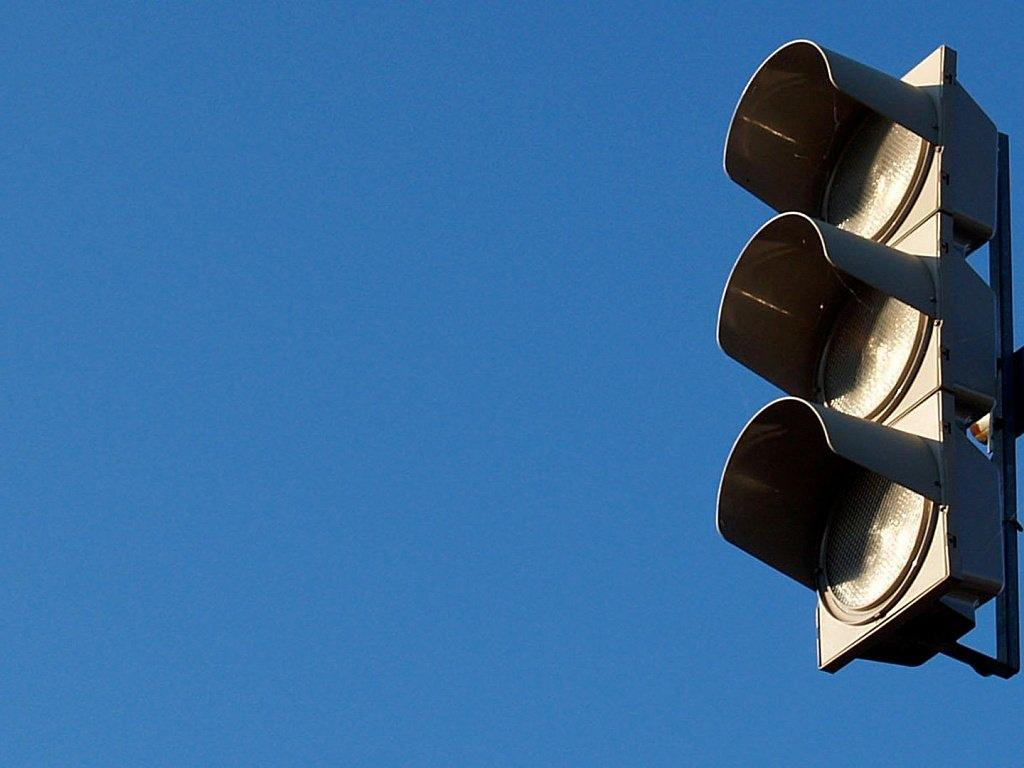off traffic light: (716, 41, 1023, 676)
